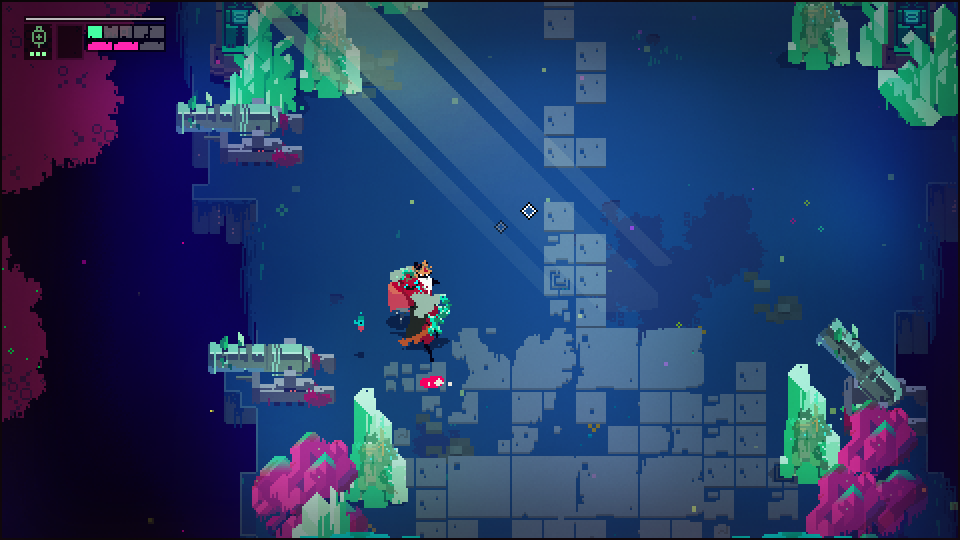hanged_man: (399, 260, 452, 354)
player: (387, 268, 412, 317)
